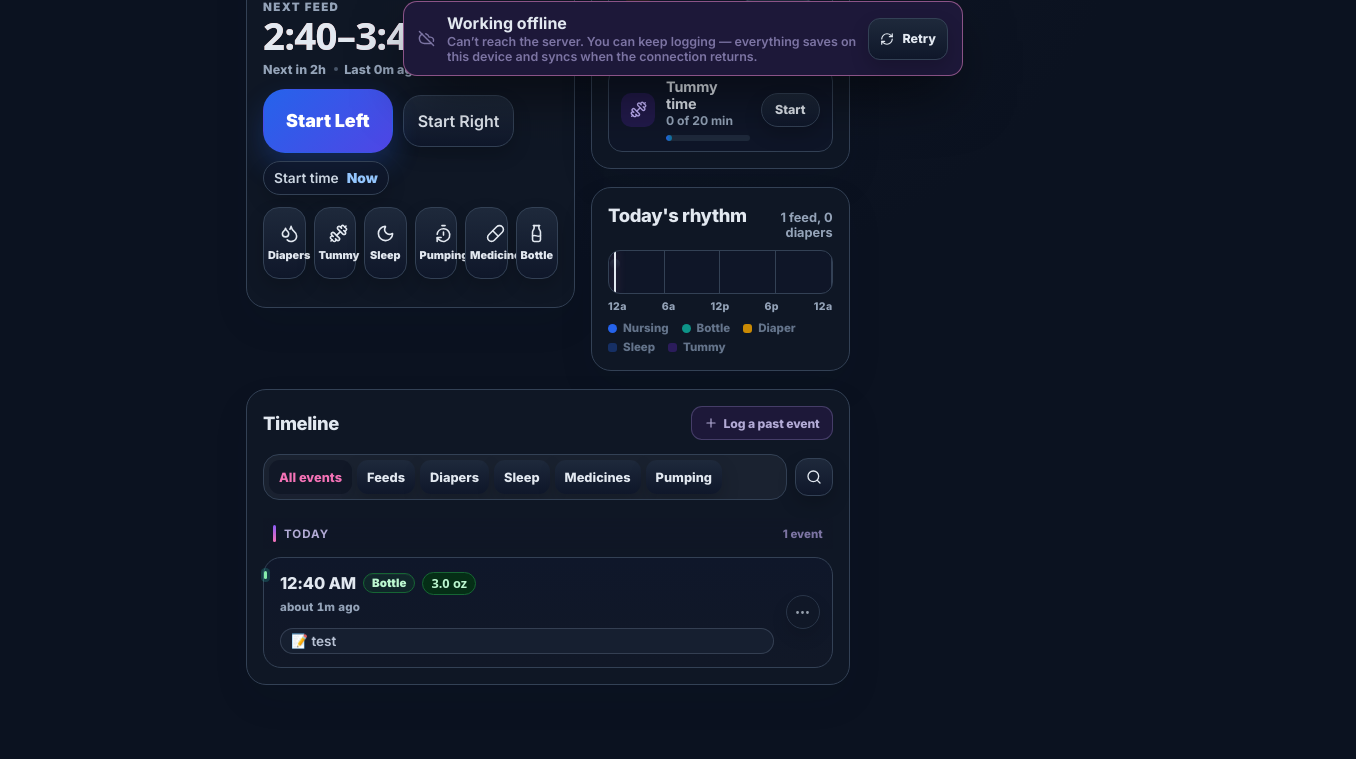
App interactions › deletes and restores an entry with undo
The image size is (1366, 759).
(page scrolled)
Click the button named "Entry actions": (803, 612) left=786, top=595, right=820, bottom=629
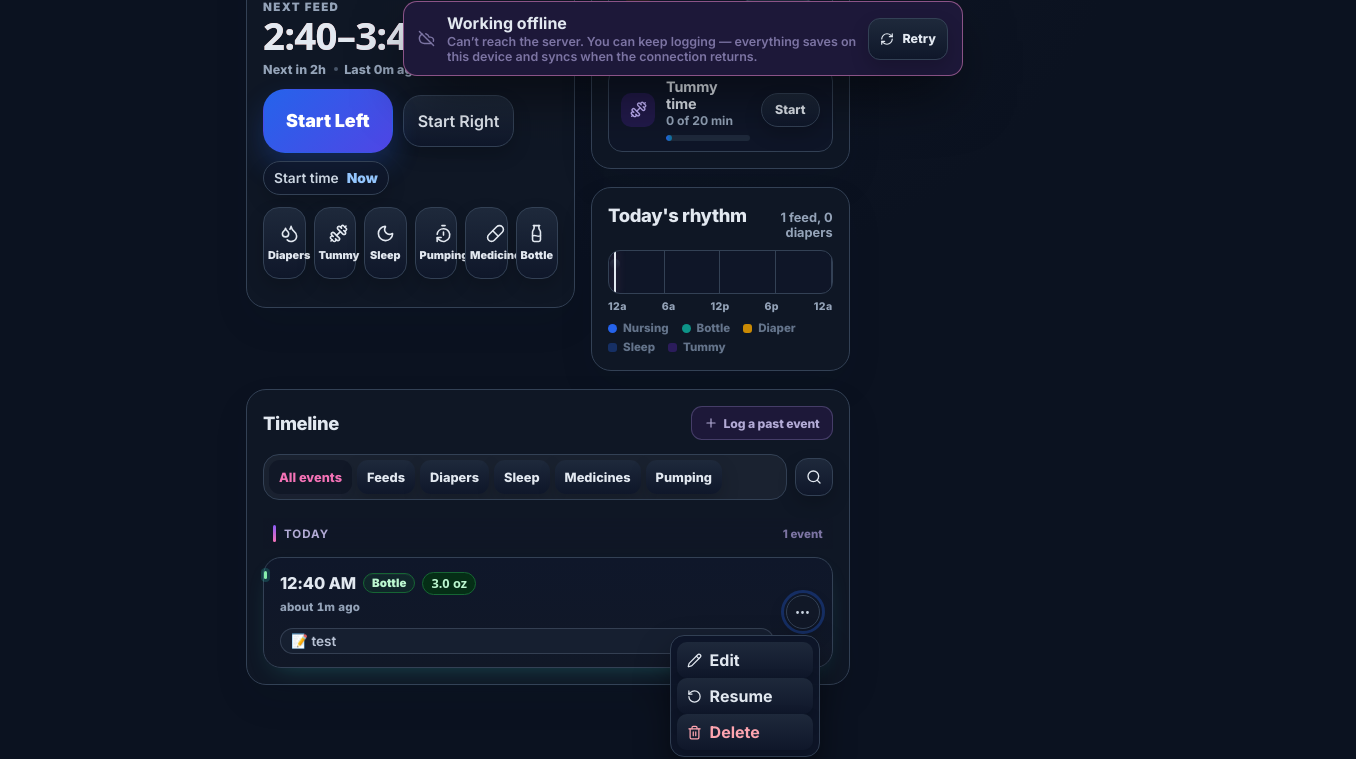
Click the menu item with aria-label "Delete entry": (745, 732) left=677, top=714, right=813, bottom=750
(page scrolled)
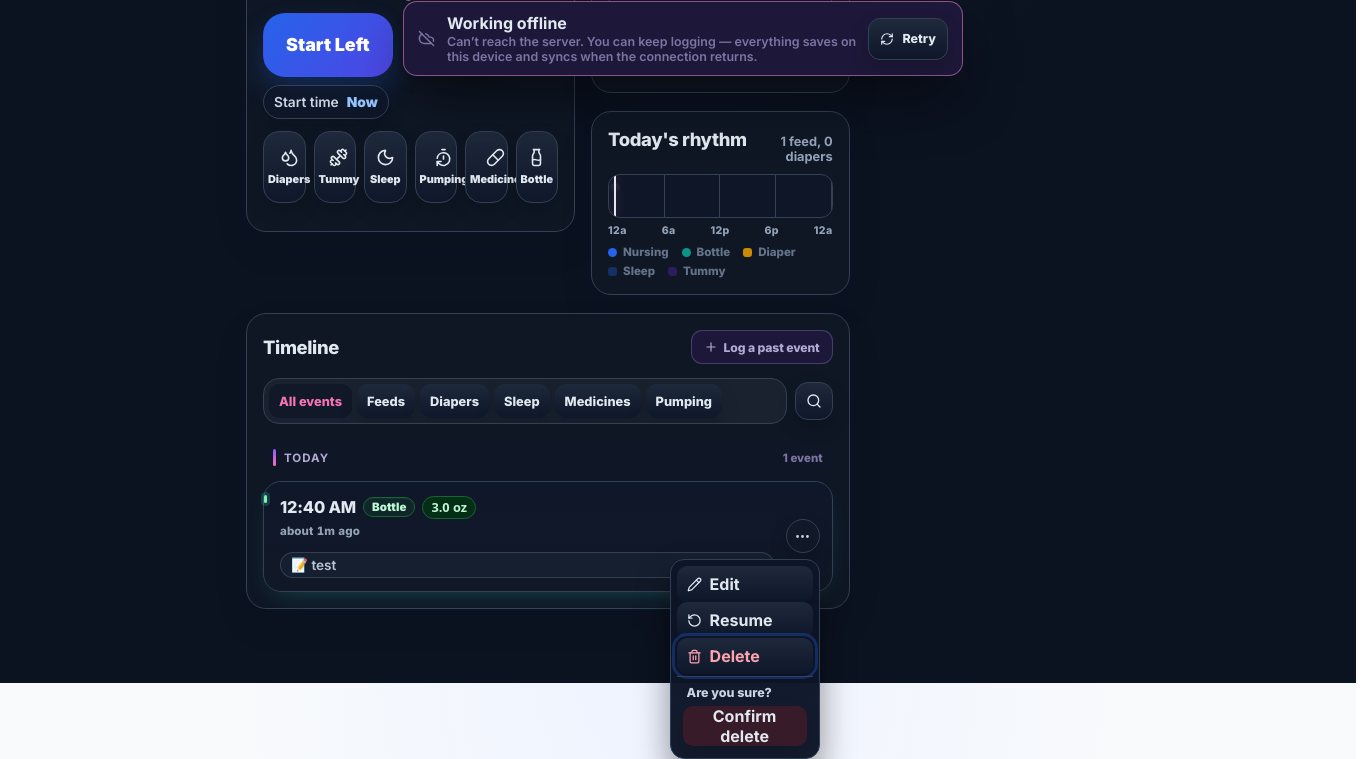
expect the text "Entry deleted" is not shown: met
expect the text "Are you sure?" is shown: met, box left=687, top=685, right=772, bottom=700
Click the menu item with aria-label "Confirm delete entry": (745, 726) left=683, top=706, right=807, bottom=746
(page scrolled)
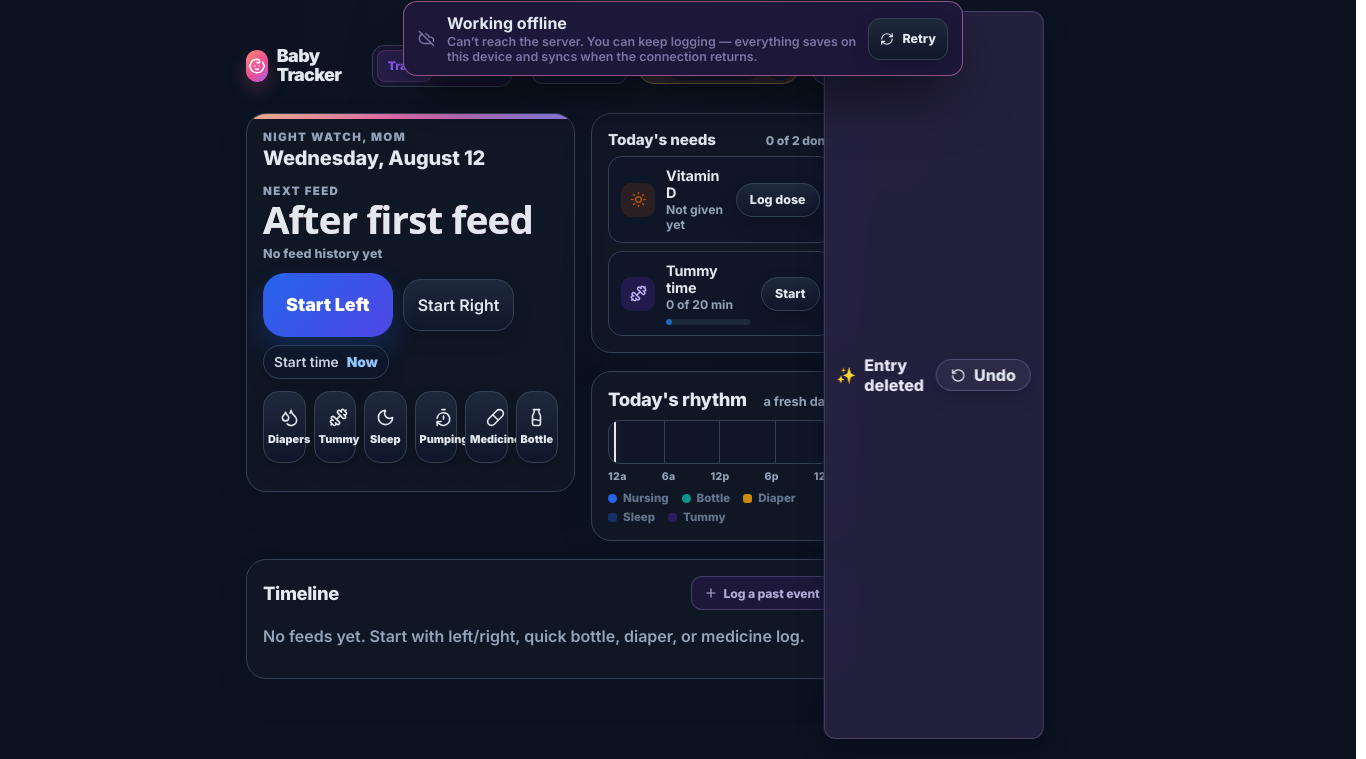
expect the text "Entry deleted" is shown: met, box left=864, top=355, right=924, bottom=395
Click the button with aria-label "Undo delete": (983, 375) left=936, top=359, right=1031, bottom=391
(page scrolled)
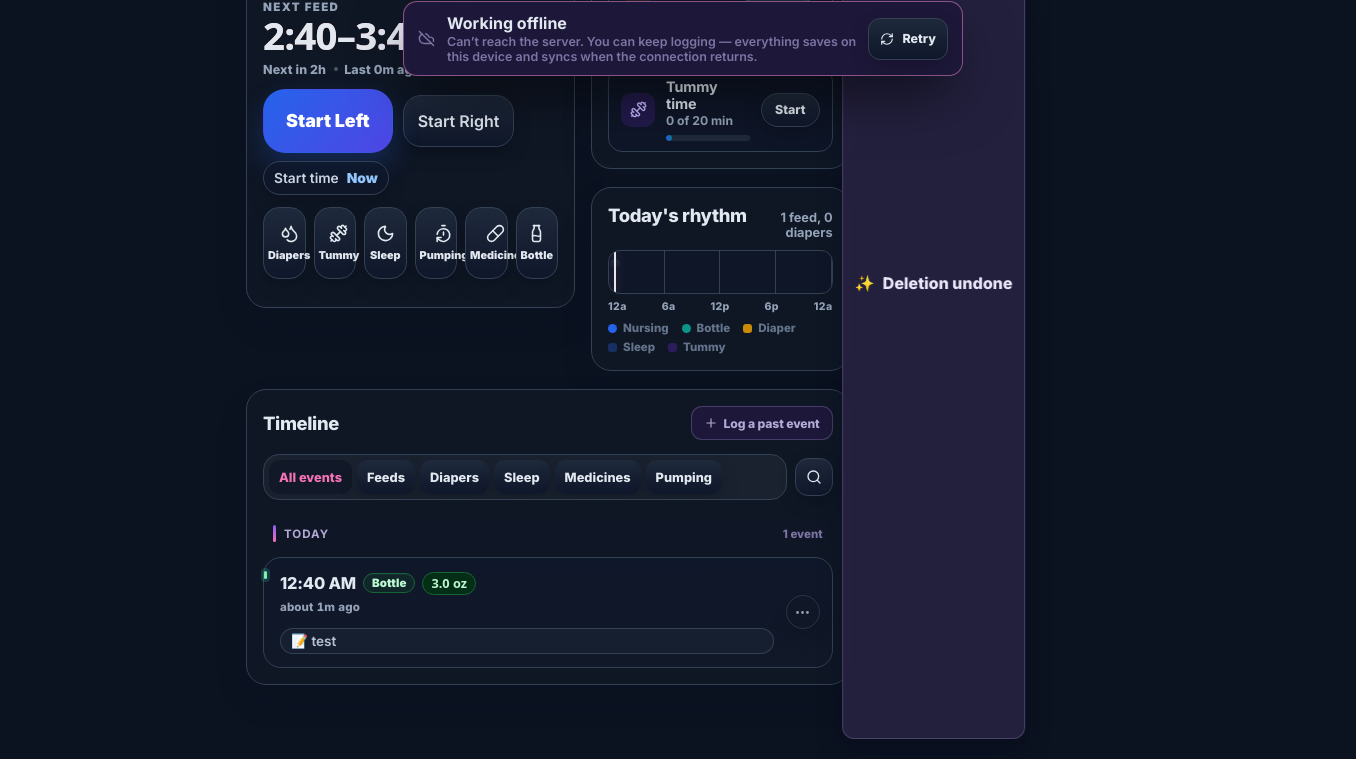
expect the text "Deletion undone" is shown: met, box left=883, top=273, right=1012, bottom=293
expect the text "3.0 oz" is shown: met, box left=422, top=572, right=476, bottom=595
